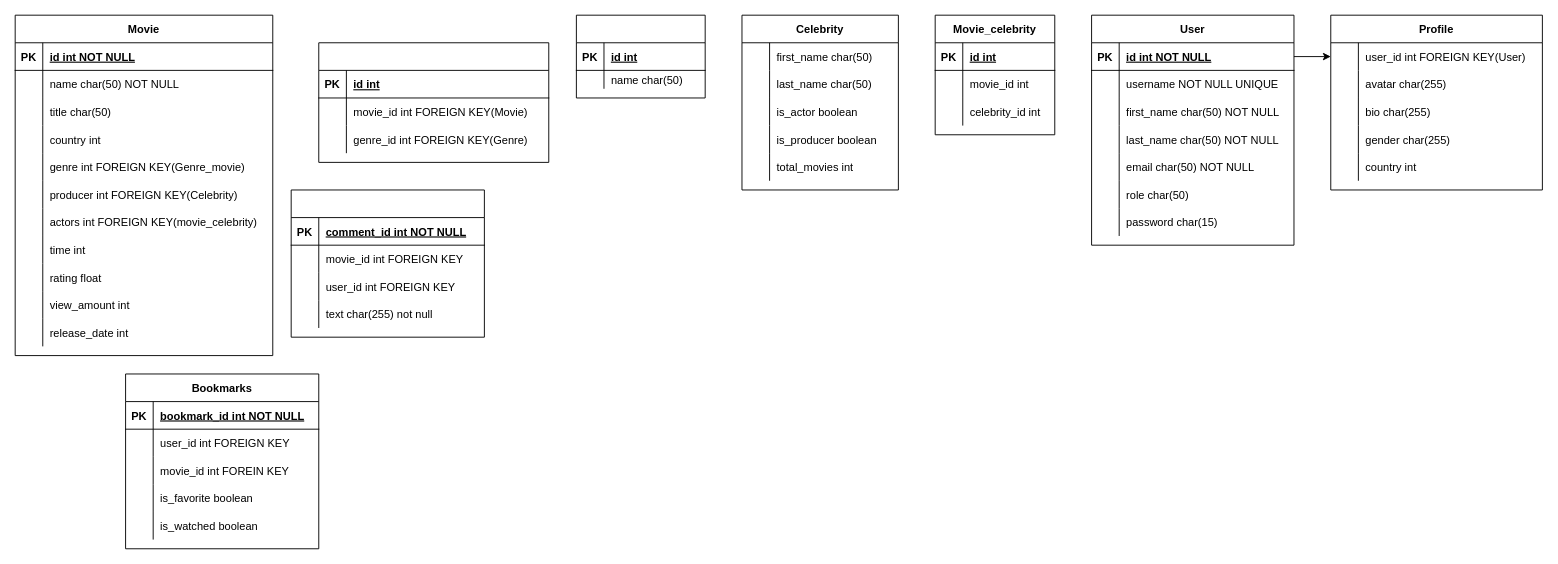
The diagram is 1558 pixels wide and 564 high, and some of its shapes have lost their labels. Each missing label, with the box of its shape:
Comments: (290, 189, 484, 337)
Genre: (575, 14, 705, 98)
Genre_movie: (318, 42, 549, 162)
